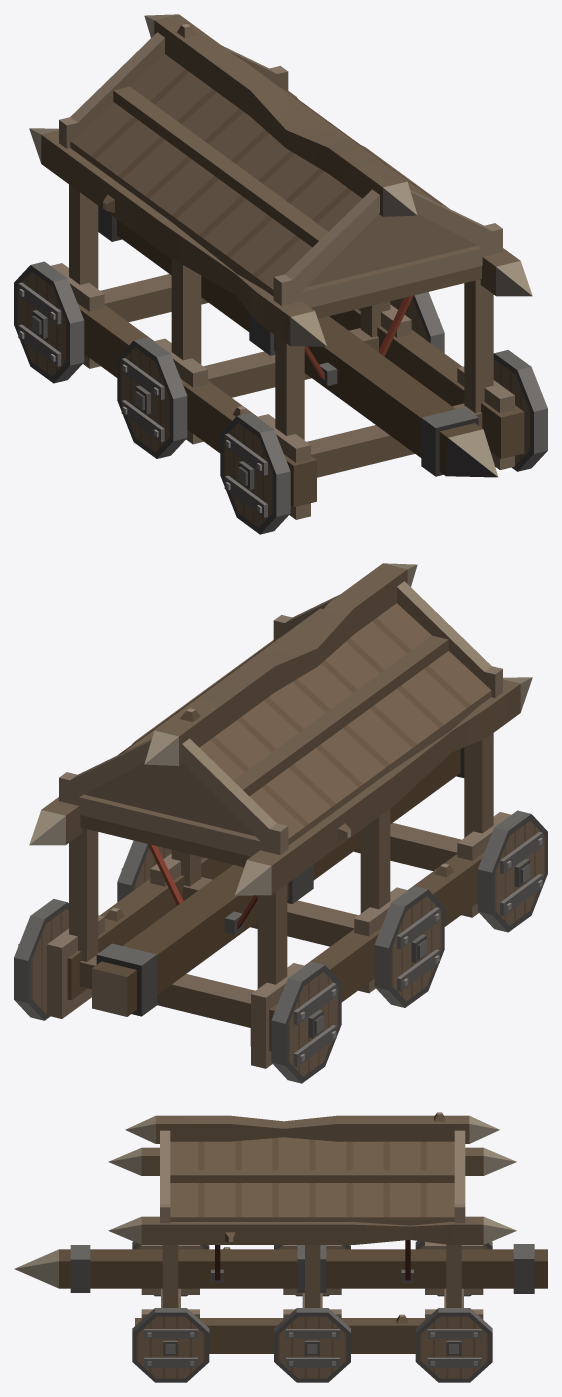
File: ManmadeLess_SF_Veh_Goblin_BatteringRam_02.fbx
3 views of the same model, one above another, from view 1: azimuth 30°, elevation 25°; view 2: azimuth 150°, elevation 25°; view 3: azimuth 270°, elevation 25° (orthographic). The views are drawn at different scales.
Visible parts, largest first — view 1: SF_Veh_Goblin_BatteringRam_02; view 2: SF_Veh_Goblin_BatteringRam_02; view 3: SF_Veh_Goblin_BatteringRam_02.
Part boxes in pixels (x1=…): SF_Veh_Goblin_BatteringRam_02: x1=14, y1=14, x2=547, y2=534; SF_Veh_Goblin_BatteringRam_02: x1=14, y1=563, x2=547, y2=1083; SF_Veh_Goblin_BatteringRam_02: x1=14, y1=1112, x2=547, y2=1382.
Bounding box in the file's own units: 300 × 327 × 710.
